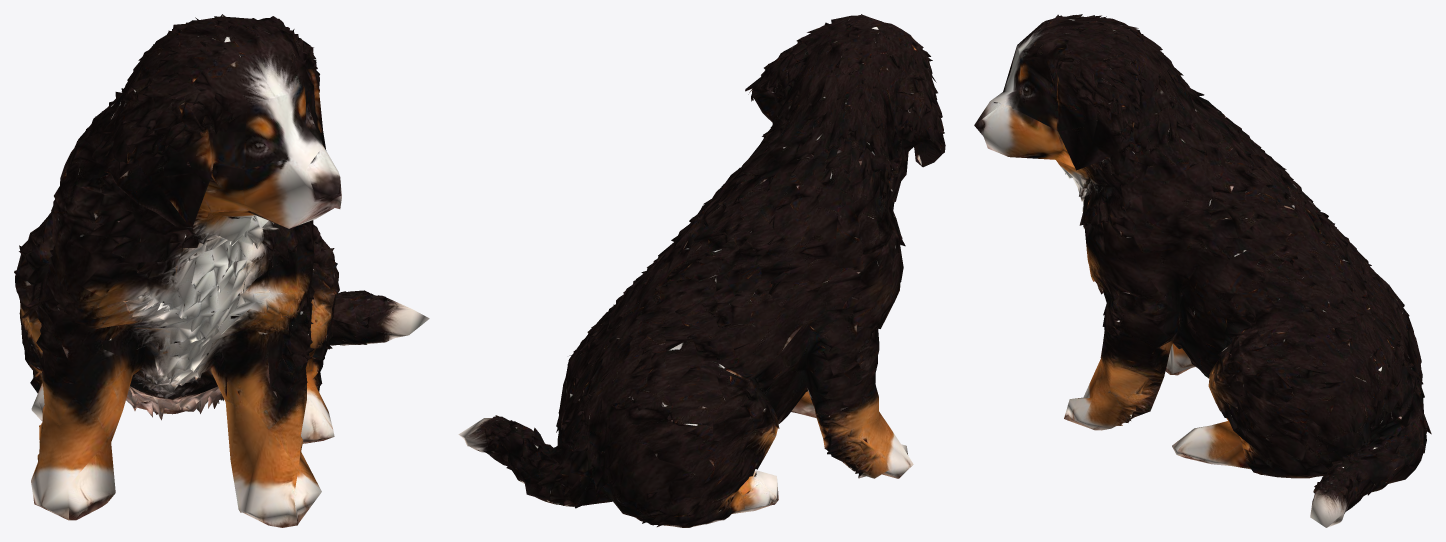
Rendered from puppy.glb.
3 views of the same model, side by side, from view 1: azimuth 30°, elevation 25°; view 2: azimuth 150°, elevation 25°; view 3: azimuth 270°, elevation 25° (orthographic). The views are drawn at different scales.
Parts seen in each view (by area): view 1: puppy; view 2: puppy; view 3: puppy.
Part boxes in pixels (x1,y1,x2,y2): puppy: (14,14,429,527); puppy: (458,14,945,527); puppy: (974,14,1431,527).
Size of the model in its own units: 0.4028 by 0.3955 by 0.4344.
1 material, 1 textured.
